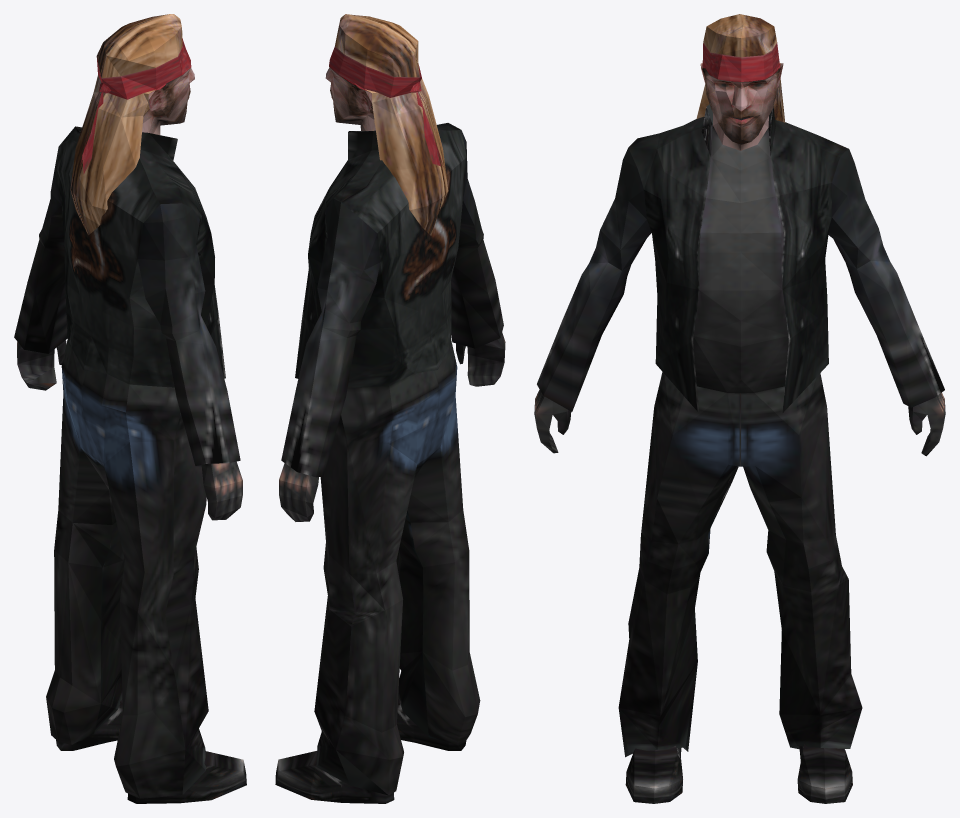
Rendered from bikerb.obj.
3 renders of one model, left to right at view 1: azimuth 30°, elevation 25°; view 2: azimuth 150°, elevation 25°; view 3: azimuth 270°, elevation 25°, orthographic. The views are drawn at different scales.
Parts seen in each view (by area): view 1: _Pelvis; view 2: _Pelvis; view 3: _Pelvis.
Part boxes in pixels (x1=…): _Pelvis: x1=14, y1=14, x2=246, y2=803; _Pelvis: x1=275, y1=14, x2=505, y2=803; _Pelvis: x1=534, y1=14, x2=945, y2=803.
Size of the model in its own units: 0.3449 by 1.92 by 0.9346.
1 material, 1 textured.
